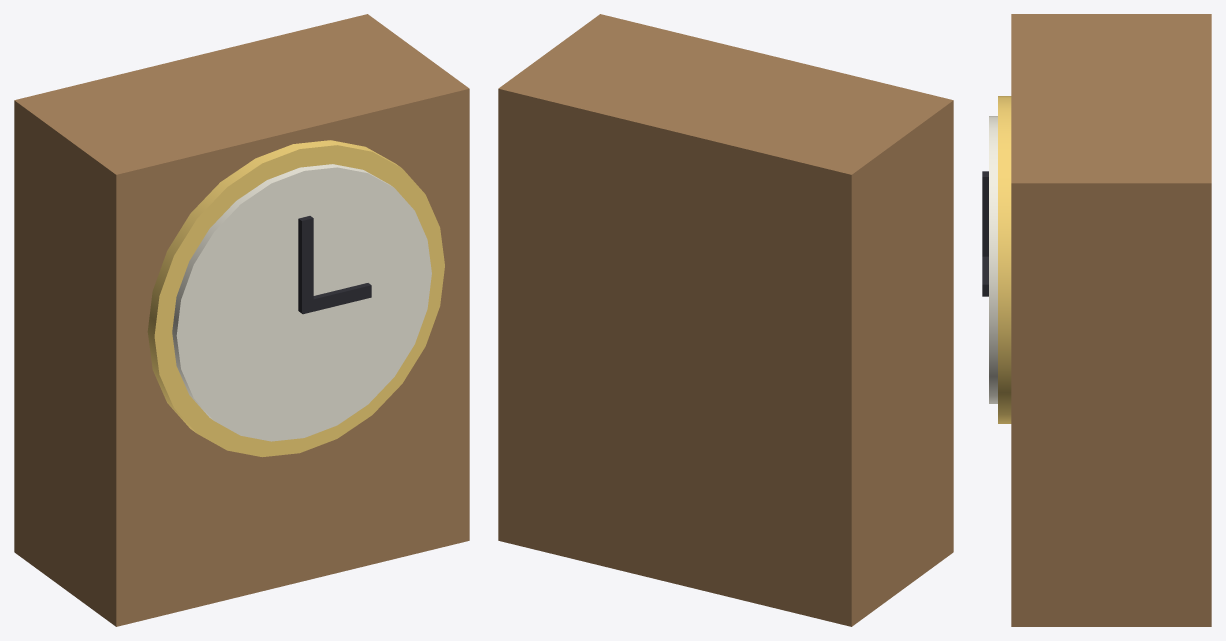
The model's file is clock.glb.
The picture shows the model from 3 angles, left to right: view 1: azimuth 30°, elevation 25°; view 2: azimuth 150°, elevation 25°; view 3: azimuth 270°, elevation 25°; orthographic projection.
Parts seen in each view (by area): view 1: clock.glb; view 2: clock.glb; view 3: clock.glb.
Part boxes in pixels (<box>): clock.glb: <box>14,14,469,626</box>; clock.glb: <box>498,14,953,626</box>; clock.glb: <box>982,14,1211,626</box>.
Bounding box in the file's own units: 0.18 × 0.22 × 0.103.
